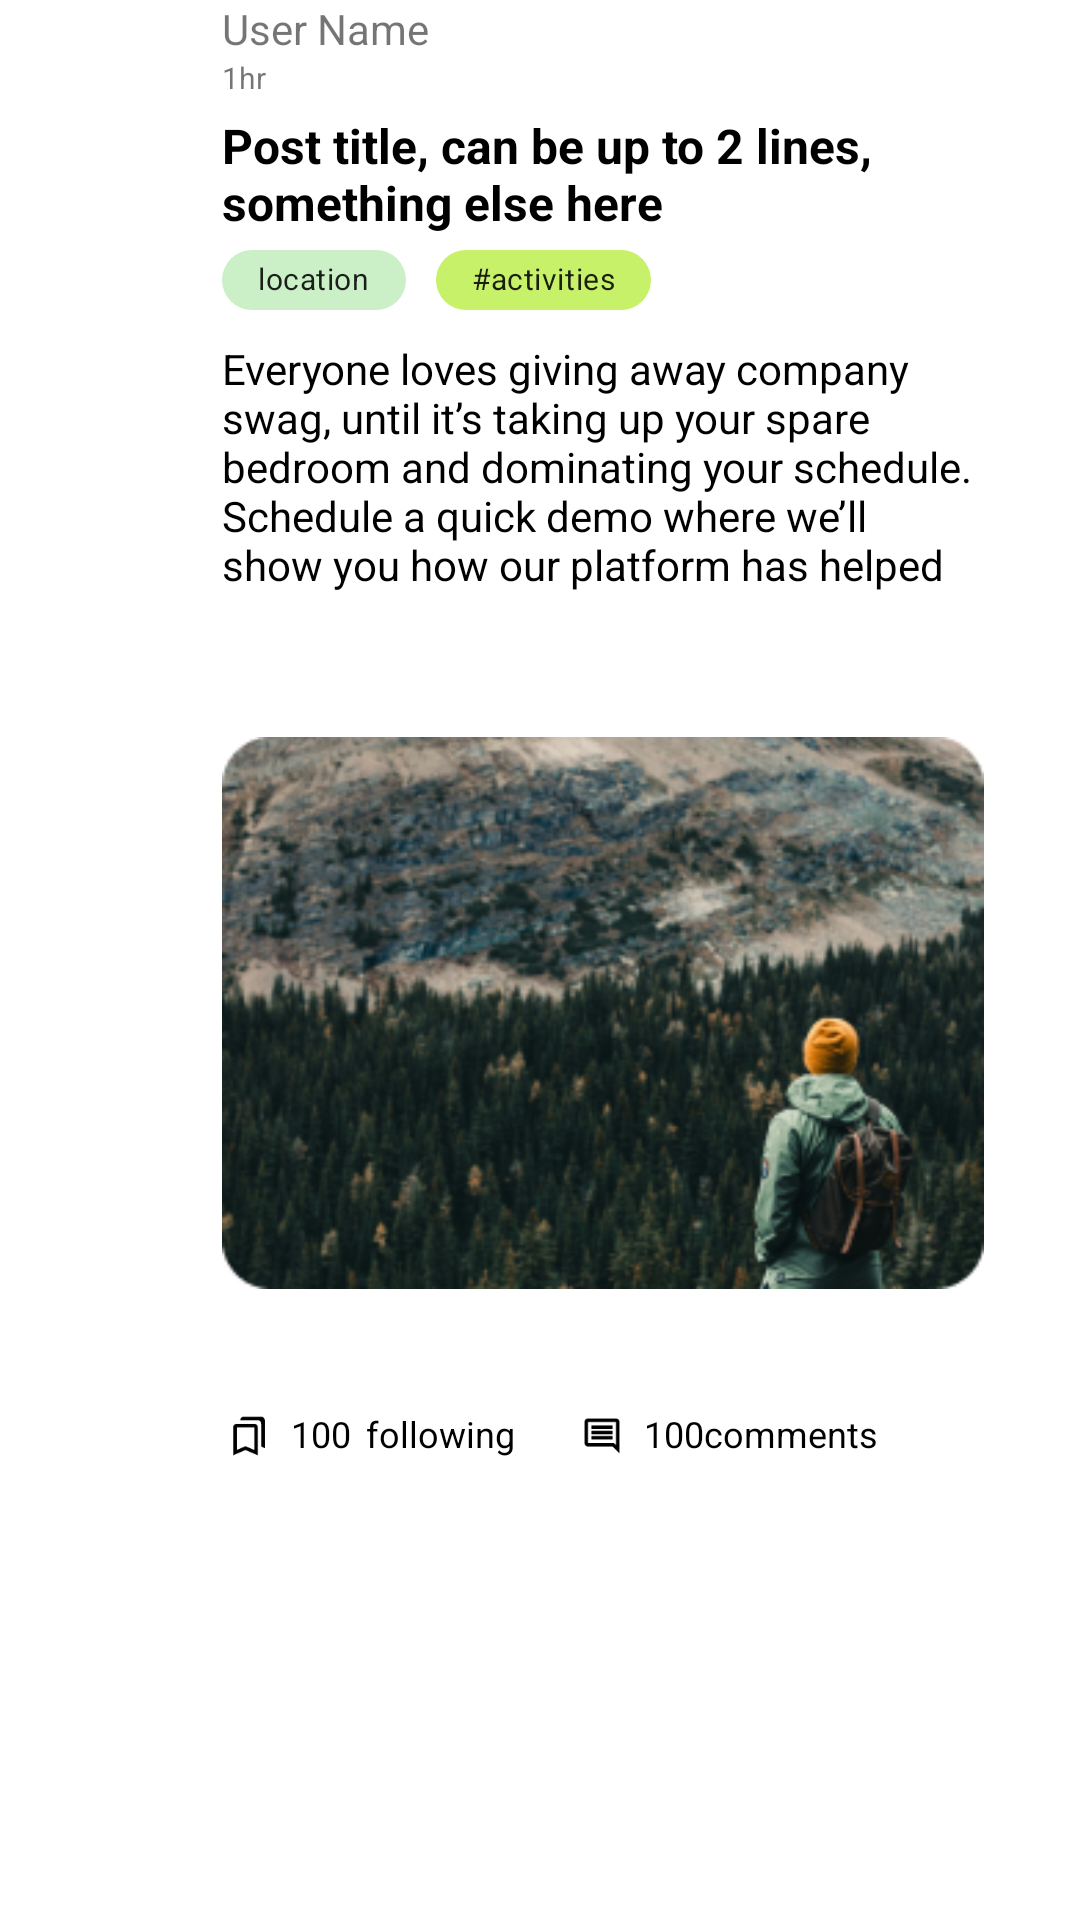

Named icons in this screenshot (1080 x 1920) and their bounding boxes, [x1,y1,x2,y2]:
bookmarks: [233,1416,265,1456]
